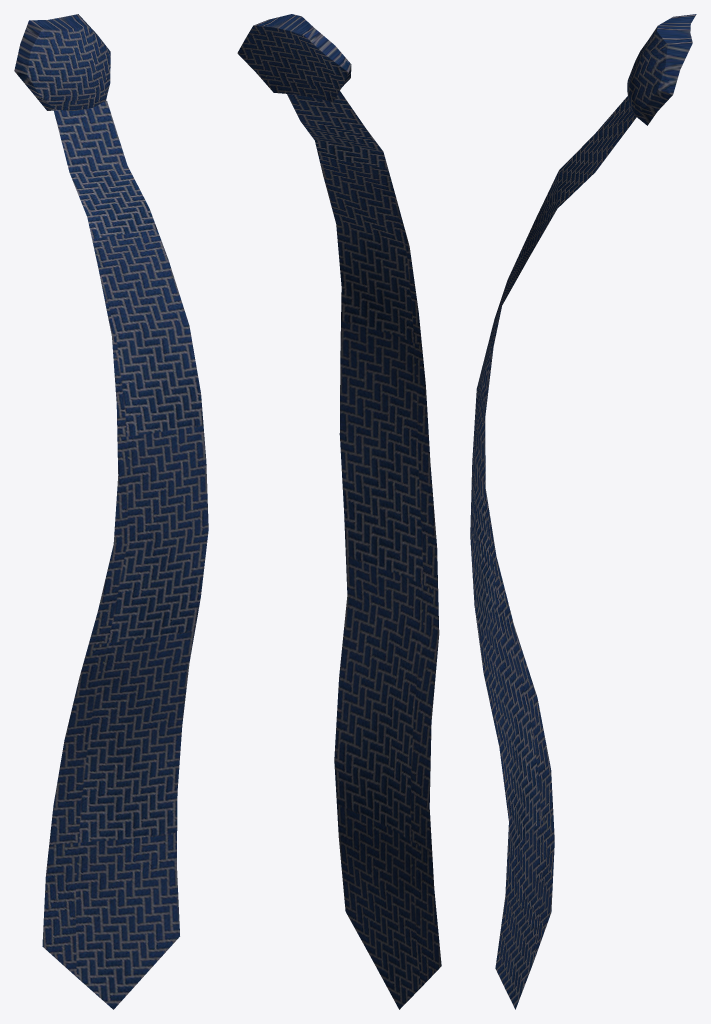
The model's file is Pose-6_SuitTie-3.fbx.
3 views of the same model, side by side, from view 1: azimuth 30°, elevation 25°; view 2: azimuth 150°, elevation 25°; view 3: azimuth 270°, elevation 25° (orthographic). The views are drawn at different scales.
Parts seen in each view (by area): view 1: Pose-6_SuitTie-3; view 2: Pose-6_SuitTie-3; view 3: Pose-6_SuitTie-3.
Boxes of the visible parts, x1,y1,x2,y2 form: Pose-6_SuitTie-3: [14, 14, 208, 1009]; Pose-6_SuitTie-3: [237, 14, 441, 1009]; Pose-6_SuitTie-3: [470, 14, 696, 1009].
Size of the model in its own units: 7.44 by 51.36 by 10.58.
